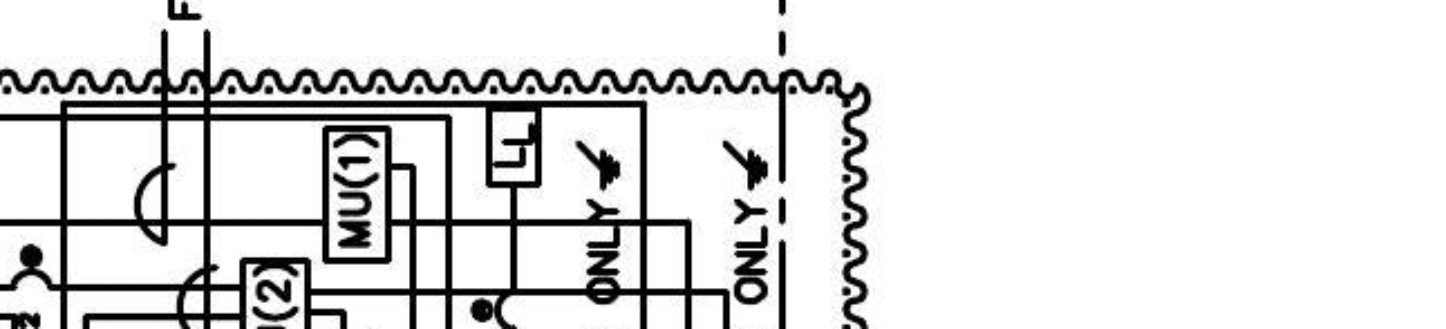LL: (484, 104, 543, 189)
MU: (321, 124, 393, 265)
